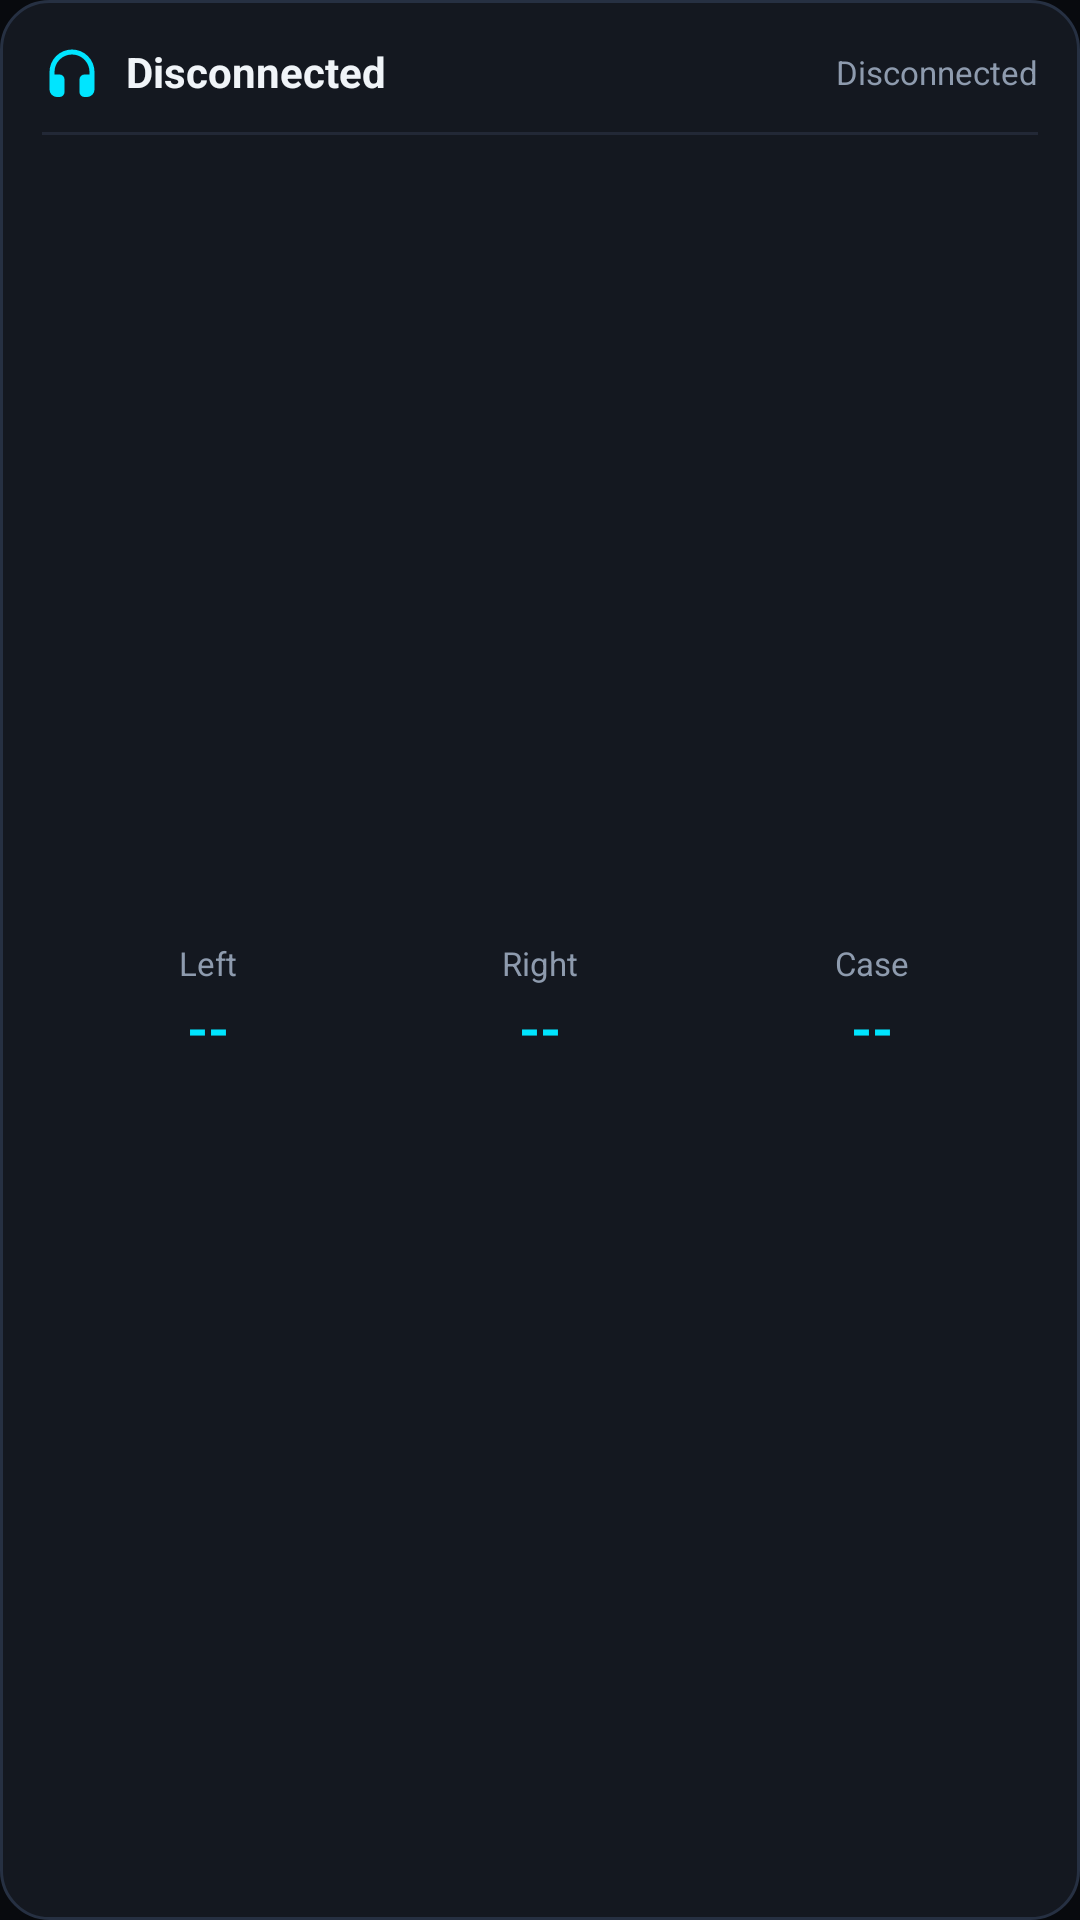

Icons on this 1080 × 1920 Android screen, each with the point to tap as [x,y]:
widget earbud: [72,73]
